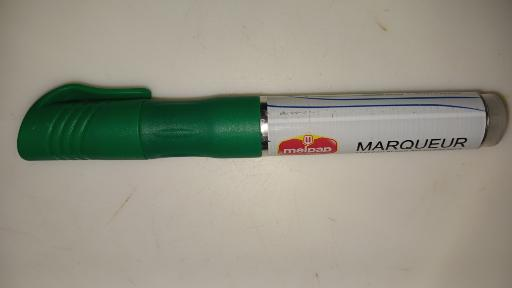Whiteboard marker: (16, 83, 512, 159)
